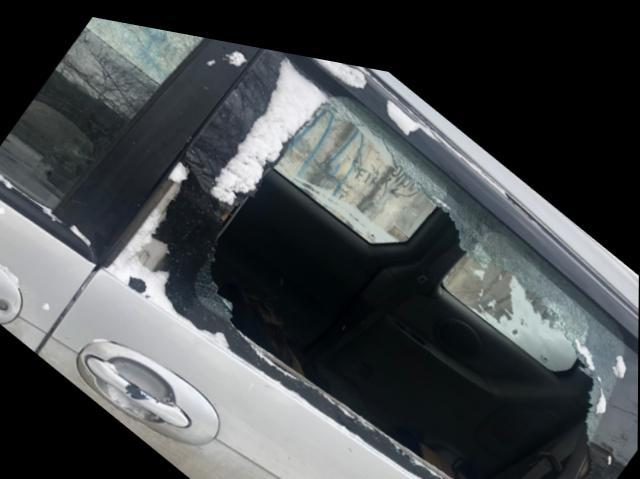glass shatter: (157, 83, 639, 479)
